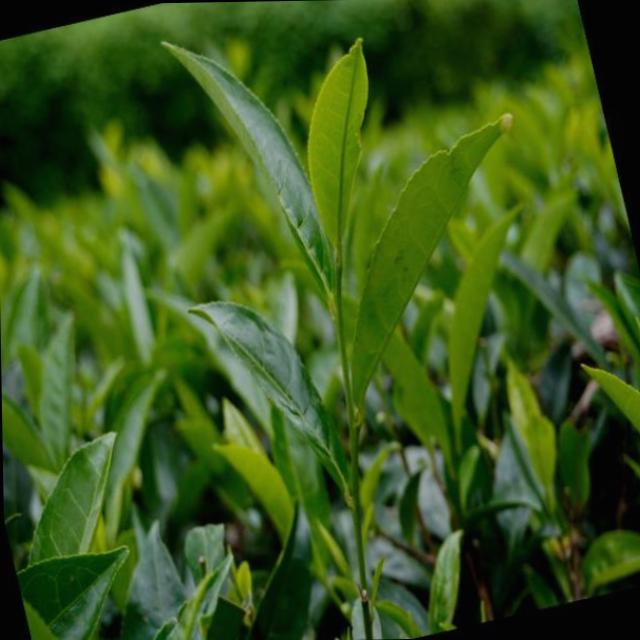Stem: (334, 315, 342, 331)
